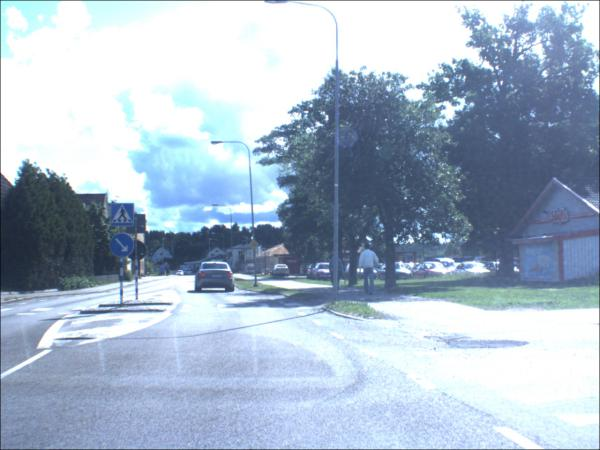PASS_RIGHT_SIDE: (111, 234, 137, 260)
PEDESTRIAN_CROSSING: (113, 205, 136, 229)
PRIORITY_ROAD: (250, 242, 260, 251)
